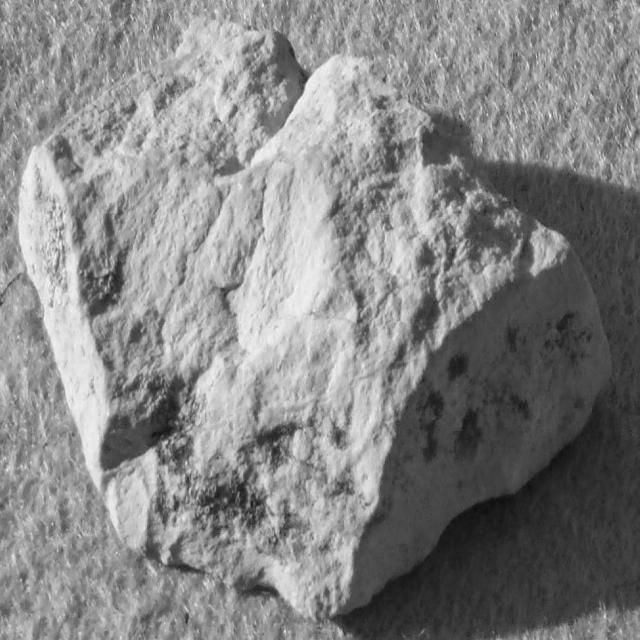Stone: (20, 19, 609, 618)
